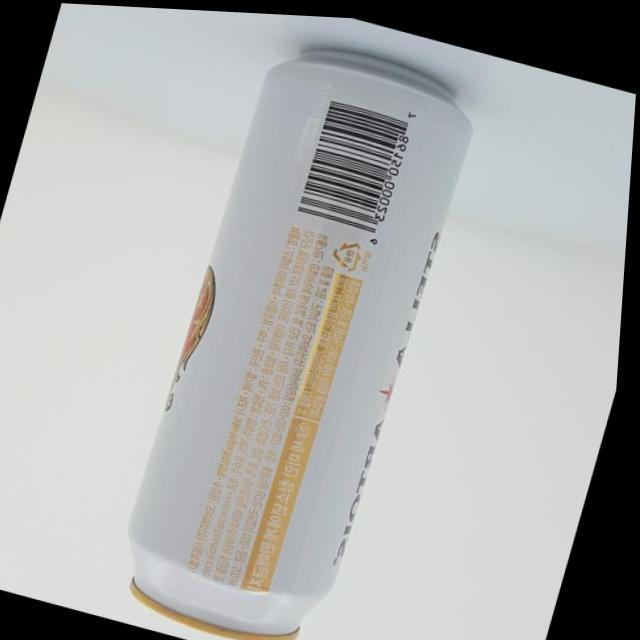metal: (103, 21, 486, 640)
